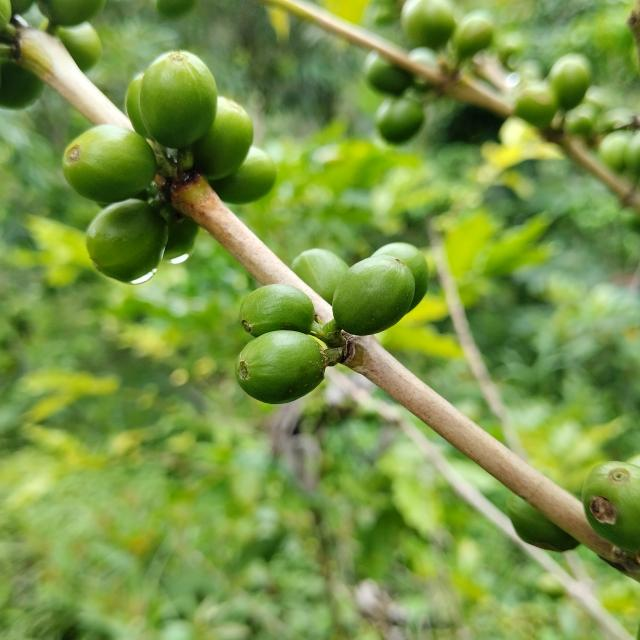green: (139, 50, 217, 148), (62, 124, 156, 203), (85, 198, 168, 282), (235, 330, 329, 404), (332, 255, 415, 336), (583, 462, 640, 553), (191, 96, 253, 179), (371, 242, 430, 312), (239, 284, 315, 337), (209, 146, 278, 204), (291, 248, 349, 304), (125, 72, 149, 137)
